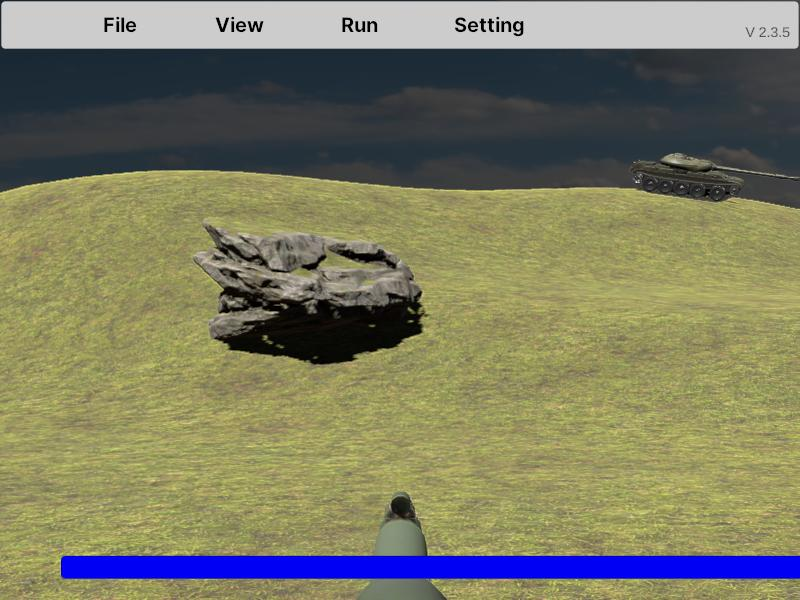Tank: (630, 152, 800, 203)
